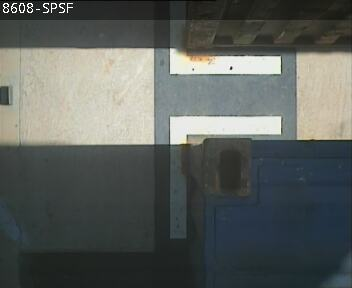groundmarker_1: (170, 1, 281, 238)
